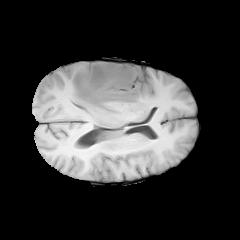glioma: (71, 61, 149, 114)
